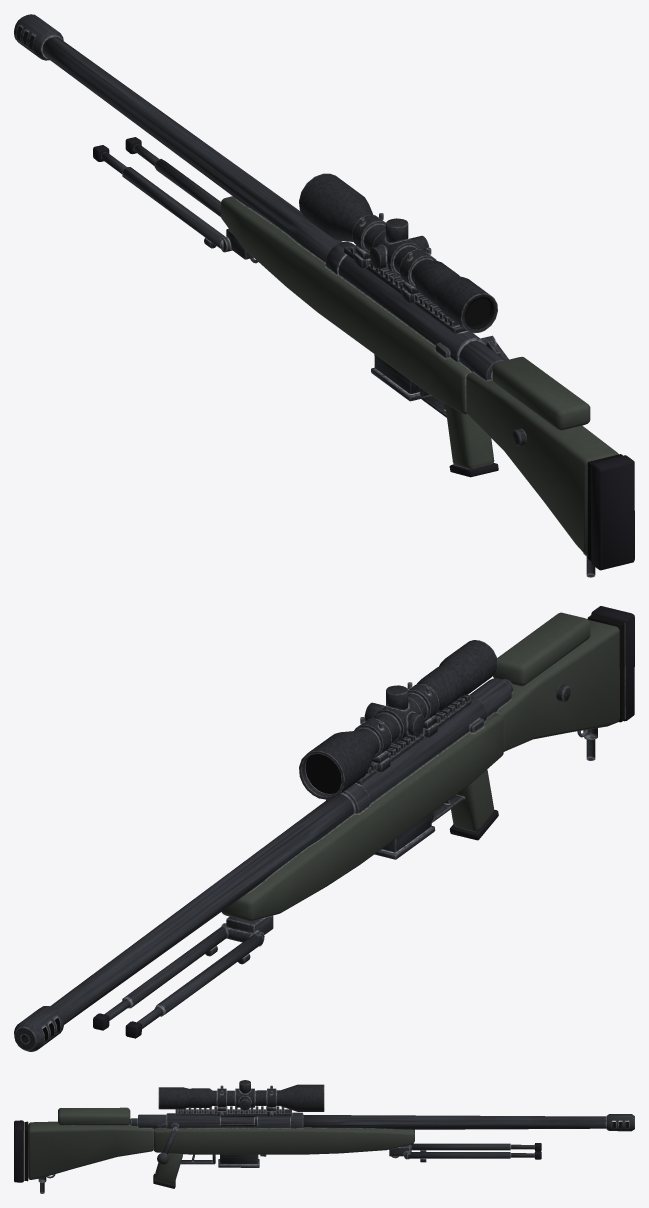
Rendered from sniper.glb.
3 renders of one model, top to bottom at view 1: azimuth 30°, elevation 25°; view 2: azimuth 150°, elevation 25°; view 3: azimuth 270°, elevation 25°, orthographic. The views are drawn at different scales.
Parts seen in each view (by area): view 1: Sniper; view 2: Sniper; view 3: Sniper.
Boxes of the visible parts, x1=… form: Sniper: x1=14, y1=14, x2=634, y2=577; Sniper: x1=14, y1=606, x2=634, y2=1051; Sniper: x1=14, y1=1080, x2=634, y2=1193.
Bounding box in the file's own units: 0.0995 × 0.236 × 1.2.
Materials: 1 (1 with a texture image).
